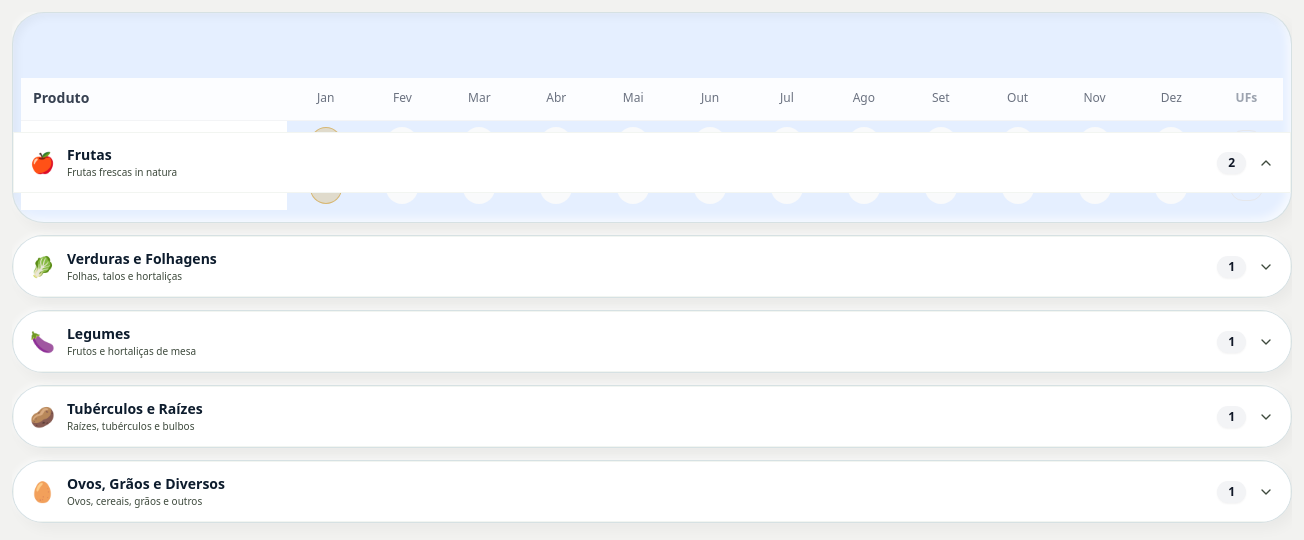
Test: GradeSazonalAcordeao › recolhe ao clicar de novo (toggle via aria-expanded)
Click the button "🍎 Frutas Frutas frescas in natura 2": (89, 154) [13,132,1291,193]
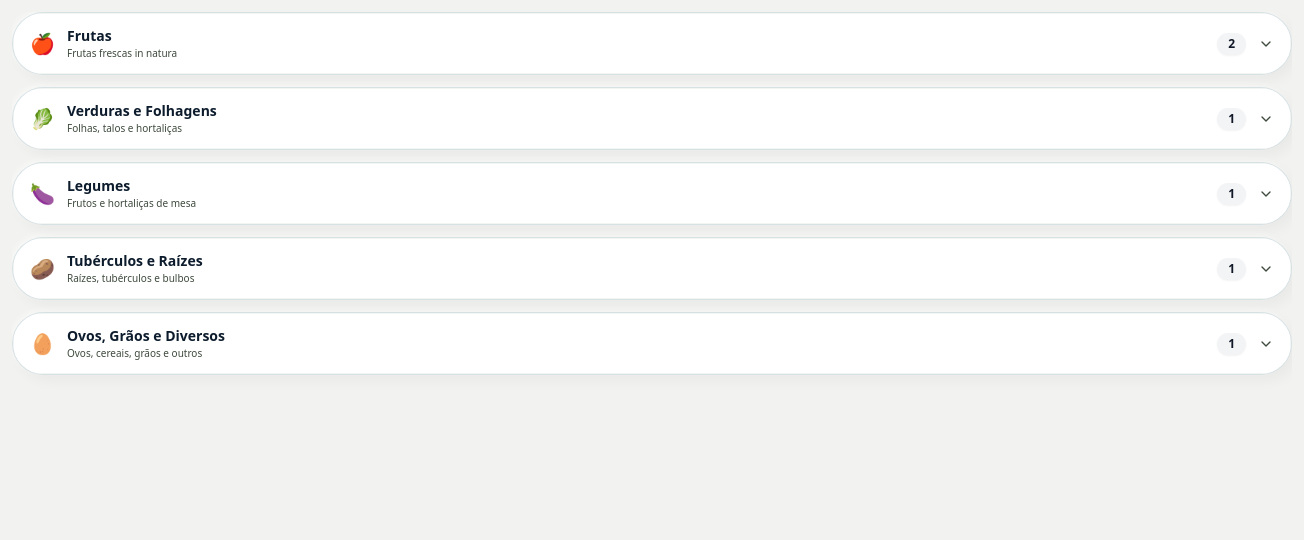
Now the button "🍎 Frutas Frutas frescas in natura 2" is collapsed, box [13,13,1291,74]
